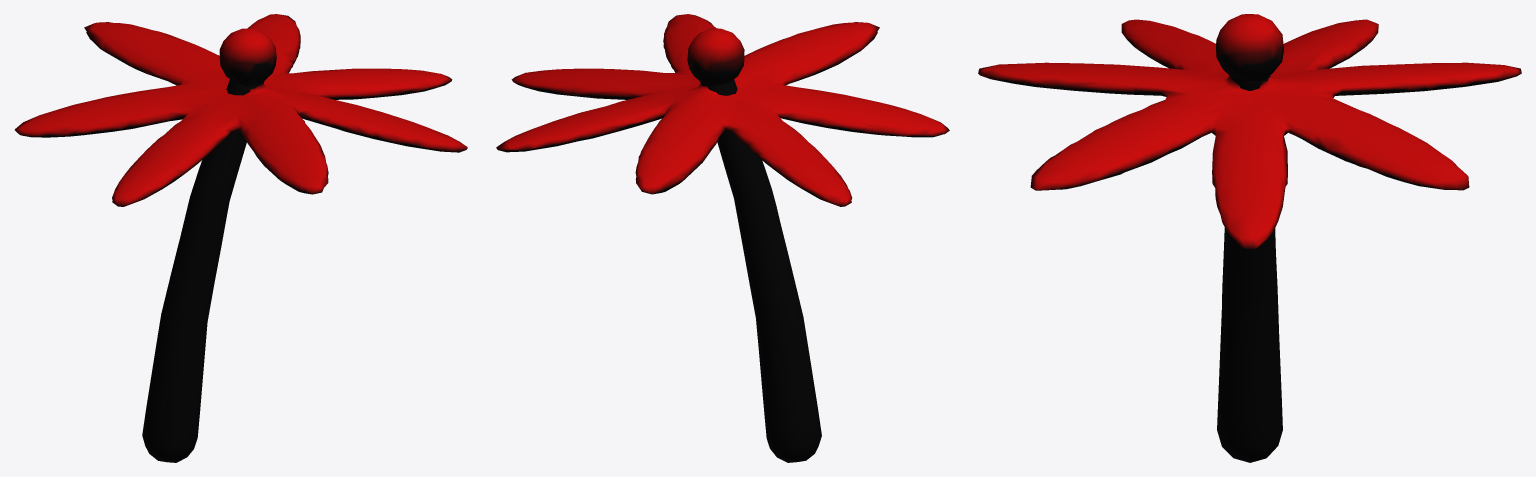
File: bg-dunes-c.glb
The picture shows the model from 3 angles, left to right: view 1: azimuth 30°, elevation 25°; view 2: azimuth 150°, elevation 25°; view 3: azimuth 270°, elevation 25°; orthographic projection. The views are drawn at different scales.
Visible parts, largest first — view 1: crown, trunk; view 2: crown, trunk; view 3: crown, trunk.
Part boxes in pixels (box(x1,y1,x2,y2)): crown: box(15, 14, 467, 206); trunk: box(142, 79, 264, 462); crown: box(496, 14, 949, 206); trunk: box(700, 79, 821, 462); crown: box(978, 14, 1521, 249); trunk: box(1217, 75, 1282, 462).
Bounding box in the file's own units: 6.66 × 6.79 × 6.86.
